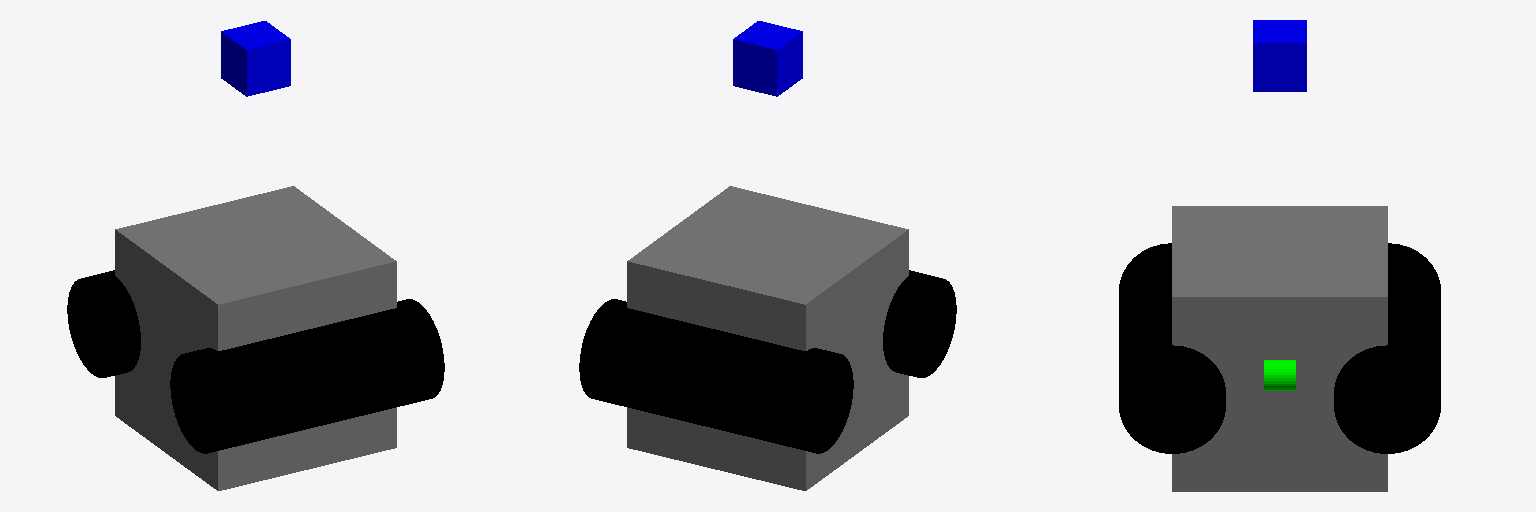
robot.urdf — tracked_robot:
<?xml version="1.0"?>
<robot name="tracked_robot">

  <!-- Base Link -->
  <link name="base_link">
    <visual>
      <geometry>
        <box size="0.20 0.20 0.20"/>
      </geometry>
      <material name="gray">
        <color rgba="0.5 0.5 0.5 1"/>
      </material>
    </visual>
    <collision>
      <geometry>
        <box size="0.20 0.20 0.20"/>
      </geometry>
    </collision>
    <inertial>
      <mass value="5"/>
      <inertia ixx="0.052" iyy="0.052" izz="0.052" ixy="0" ixz="0" iyz="0"/>
    </inertial>
  </link>

  <!-- Left Track -->
  <link name="left_track">
    <visual>
      <geometry>
        <cylinder radius="0.05" length="0.25"/>
      </geometry>
      <material name="black">
        <color rgba="0 0 0 1"/>
      </material>
    </visual>
    <collision>
      <geometry>
        <cylinder radius="0.05" length="0.25"/>
      </geometry>
    </collision>
    <inertial>
      <mass value="1"/>
      <inertia ixx="0.001" iyy="0.001" izz="0.001" ixy="0" ixz="0" iyz="0"/>
    </inertial>
  </link>

  <!-- Right Track -->
  <link name="right_track">
    <visual>
      <geometry>
        <cylinder radius="0.05" length="0.25"/>
      </geometry>
      <material name="black">
        <color rgba="0 0 0 1"/>
      </material>
    </visual>
    <collision>
      <geometry>
        <cylinder radius="0.05" length="0.25"/>
      </geometry>
    </collision>
    <inertial>
      <mass value="1"/>
      <inertia ixx="0.001" iyy="0.001" izz="0.001" ixy="0" ixz="0" iyz="0"/>
    </inertial>
  </link>

<!-- Joint for Left Track -->
<joint name="left_track_joint" type="continuous">
  <parent link="base_link"/>
  <child link="left_track"/>
  <origin xyz="0 0.1 0" rpy="0 1.5708 0"/> <!-- Yaw 90°, cilindro su Y -->
  <axis xyz="0 1 0"/>
</joint>

<!-- Joint for Right Track -->
<joint name="right_track_joint" type="continuous">
  <parent link="base_link"/>
  <child link="right_track"/>
  <origin xyz="0 -0.1 0" rpy="0 1.5708 0"/> <!-- Yaw 90°, cilindro su Y -->
  <axis xyz="0 1 0"/>
</joint>

  
    <!-- Camera Link -->
  <link name="camera_link">
    <visual>
      <geometry>
        <box size="0.05 0.05 0.05"/>
      </geometry>
      <material name="blue">
        <color rgba="0 0 1 1"/>
      </material>
    </visual>
  </link>

  <joint name="camera_joint" type="fixed">
    <parent link="base_link"/>
    <child link="camera_link"/>
    <origin xyz="0.0 0.0 0.30" rpy="0 0 0"/>
  </joint>

    <!-- Frame compatibile con RViz e RTAB-Map -->
  <link name="camera_frame"/>
  <joint name="camera_frame_joint" type="fixed">
    <parent link="camera_link"/>
    <child link="camera_frame"/>
    <origin xyz="0 0 0" rpy="0 0 0"/>
  </joint>


  <!-- Ultrasonic Sensor Link -->
  <link name="ultrasonic_link">
    <visual>
      <geometry>
        <cylinder radius="0.015" length="0.03"/>
      </geometry>
      <material name="green">
        <color rgba="0 1 0 1"/>
      </material>
    </visual>
  </link>

  <joint name="ultrasonic_joint" type="fixed">
    <parent link="base_link"/>
    <child link="ultrasonic_link"/>
    <origin xyz="0.1 0.0 0.02" rpy="1.5708 0 0"/> <!-- rotate so cylinder faces forward -->
  </joint>


</robot>

--- Render facts (derived) ---
The picture shows the robot from 3 angles, left to right: view 1: azimuth 30°, elevation 25°; view 2: azimuth 150°, elevation 25°; view 3: azimuth 270°, elevation 25°; orthographic projection.
Robot: tracked_robot — 6 links, 5 joints (2 continuous, 3 fixed); root link base_link; default pose: every joint at zero.
Links seen in each view (by area): view 1: base_link, right_track, left_track, camera_link; view 2: base_link, left_track, right_track, camera_link; view 3: base_link, left_track, right_track, camera_link, ultrasonic_link.
Boxes of the visible links, box(x1,y1,x2,y2) form: base_link: box(115, 186, 396, 490); right_track: box(170, 299, 444, 453); left_track: box(67, 270, 140, 377); camera_link: box(221, 21, 290, 96); base_link: box(627, 186, 908, 490); left_track: box(579, 299, 853, 453); right_track: box(883, 270, 956, 377); camera_link: box(733, 21, 802, 96); base_link: box(1172, 206, 1387, 491); left_track: box(1334, 243, 1440, 453); right_track: box(1119, 243, 1225, 453); camera_link: box(1253, 20, 1306, 91); ultrasonic_link: box(1264, 360, 1295, 390).
Size in the robot's own frame: 0.25 by 0.3 by 0.425 metres.
Geometry: primitives only (box / cylinder / sphere), no mesh files.
